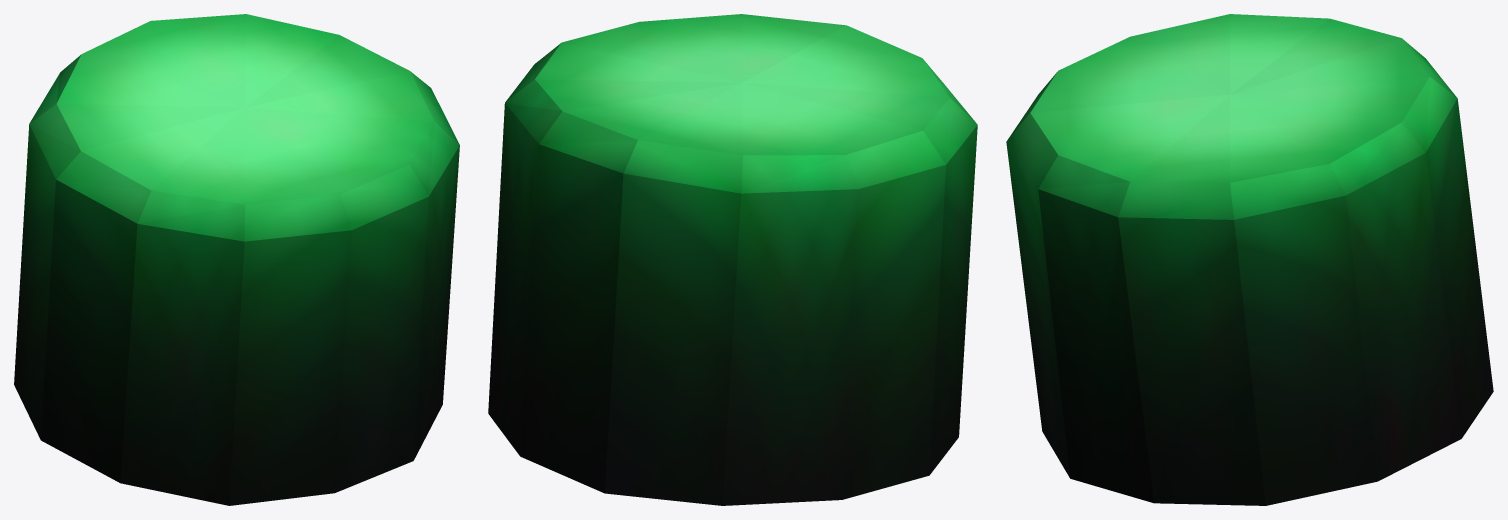
The model's file is led0.obj.
The picture shows the model from 3 angles, left to right: view 1: azimuth 30°, elevation 25°; view 2: azimuth 150°, elevation 25°; view 3: azimuth 270°, elevation 25°; orthographic projection. The views are drawn at different scales.
Size of the model in its own units: 0.00114 by 0.00098 by 0.00122.
Materials: 1 (1 with a texture image).
